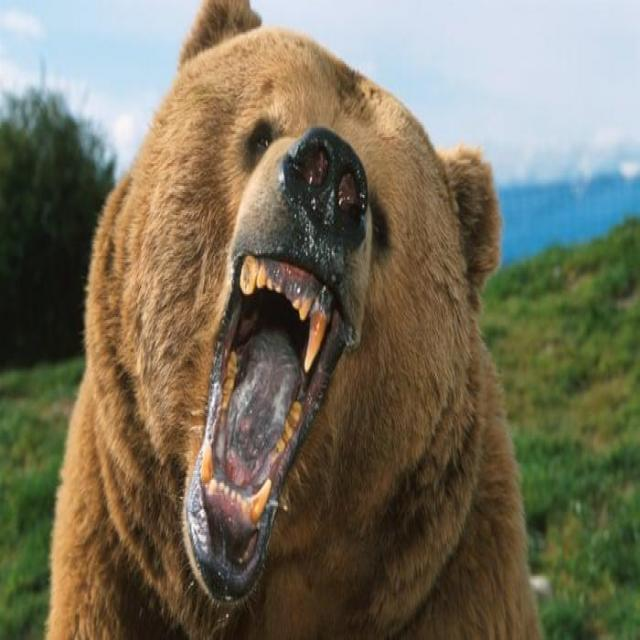Bear: (44, 0, 544, 640)
